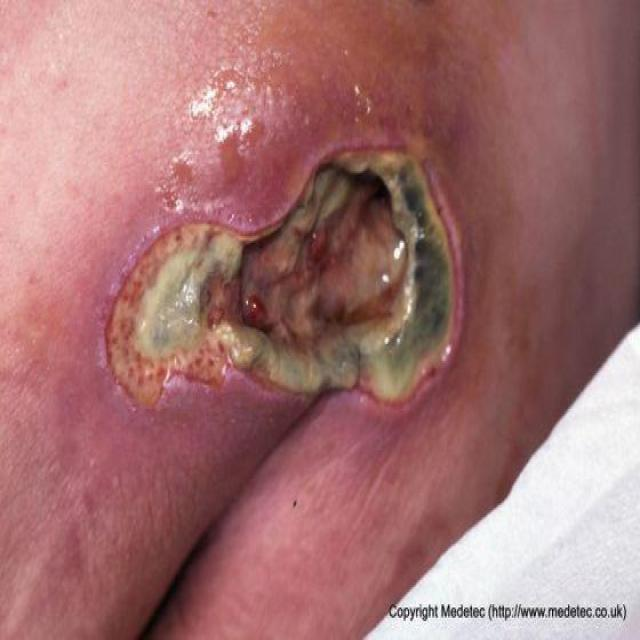Unstageable: (106, 152, 454, 403)
